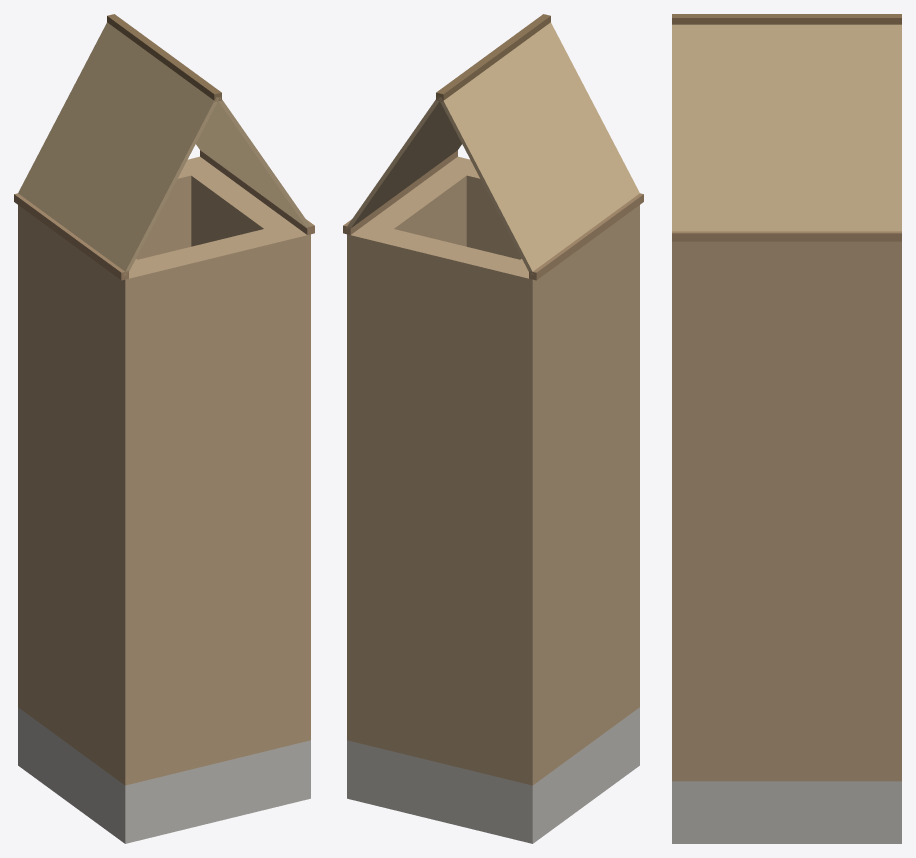
Rendered from 18-Casas_casa_completa_ejemplo.glb.
3 views of the same model, side by side, from view 1: azimuth 30°, elevation 25°; view 2: azimuth 150°, elevation 25°; view 3: azimuth 270°, elevation 25° (orthographic). The views are drawn at different scales.
Visible parts, largest first — view 1: SM_Casa_M_Casa_Pared, SM_Casa_M_Casa_Tablero, SM_Casa_M_Casa_Piedra, SM_Casa_M_Casa_MaderaMed, SM_Casa_M_Casa_MaderaOsc; view 2: SM_Casa_M_Casa_Pared, SM_Casa_M_Casa_Tablero, SM_Casa_M_Casa_Piedra, SM_Casa_M_Casa_MaderaMed, SM_Casa_M_Casa_MaderaOsc; view 3: SM_Casa_M_Casa_Pared, SM_Casa_M_Casa_Tablero, SM_Casa_M_Casa_Piedra, SM_Casa_M_Casa_MaderaOsc, SM_Casa_M_Casa_MaderaMed.
Part boxes in pixels (<box>): SM_Casa_M_Casa_Pared: <box>18,156,310,785</box>; SM_Casa_M_Casa_Tablero: <box>18,22,310,275</box>; SM_Casa_M_Casa_Piedra: <box>18,707,310,843</box>; SM_Casa_M_Casa_MaderaMed: <box>14,150,314,280</box>; SM_Casa_M_Casa_MaderaOsc: <box>107,14,221,101</box>; SM_Casa_M_Casa_Pared: <box>347,156,639,785</box>; SM_Casa_M_Casa_Tablero: <box>345,22,639,275</box>; SM_Casa_M_Casa_Piedra: <box>347,707,639,843</box>; SM_Casa_M_Casa_MaderaMed: <box>343,150,643,280</box>; SM_Casa_M_Casa_MaderaOsc: <box>436,14,550,101</box>; SM_Casa_M_Casa_Pared: <box>672,241,901,781</box>; SM_Casa_M_Casa_Tablero: <box>672,24,901,231</box>; SM_Casa_M_Casa_Piedra: <box>672,781,901,843</box>; SM_Casa_M_Casa_MaderaOsc: <box>672,14,901,24</box>; SM_Casa_M_Casa_MaderaMed: <box>672,231,901,241</box>.
Size of the model in its own units: 1.04 by 3.74 by 1.
